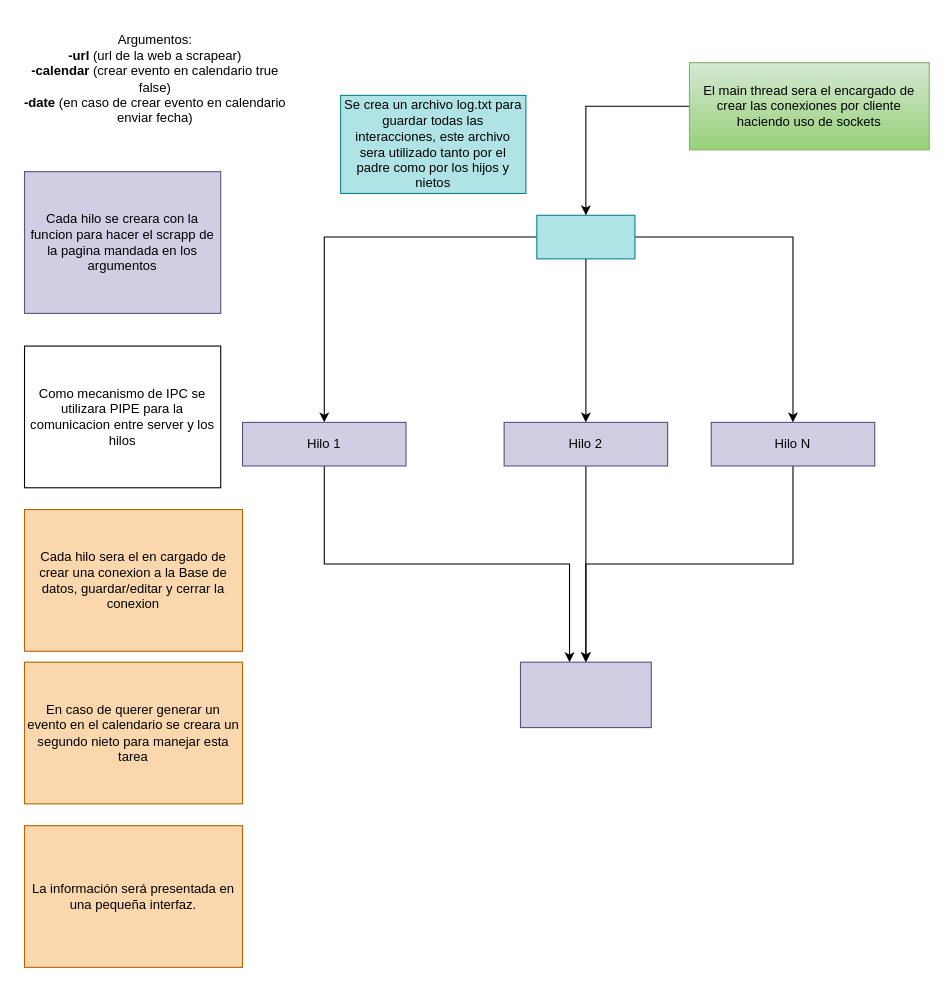
Image size: 948x986. Some labels were removed from this diagram. The shapes that lost their labels are listed below. From the top down, each one's centre as x and y in pixels, then its label:
the point at 585,236: Proceso Padre
the point at 585,694: Base de Datos
